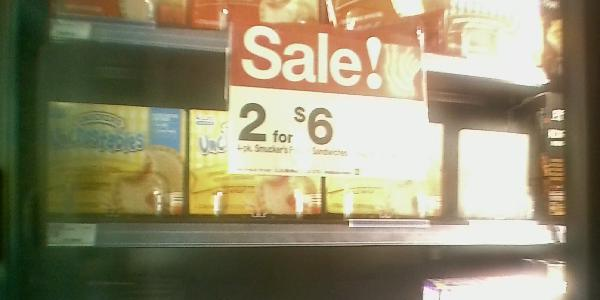icecream: (40, 99, 189, 221), (189, 107, 325, 214), (325, 106, 444, 219)
